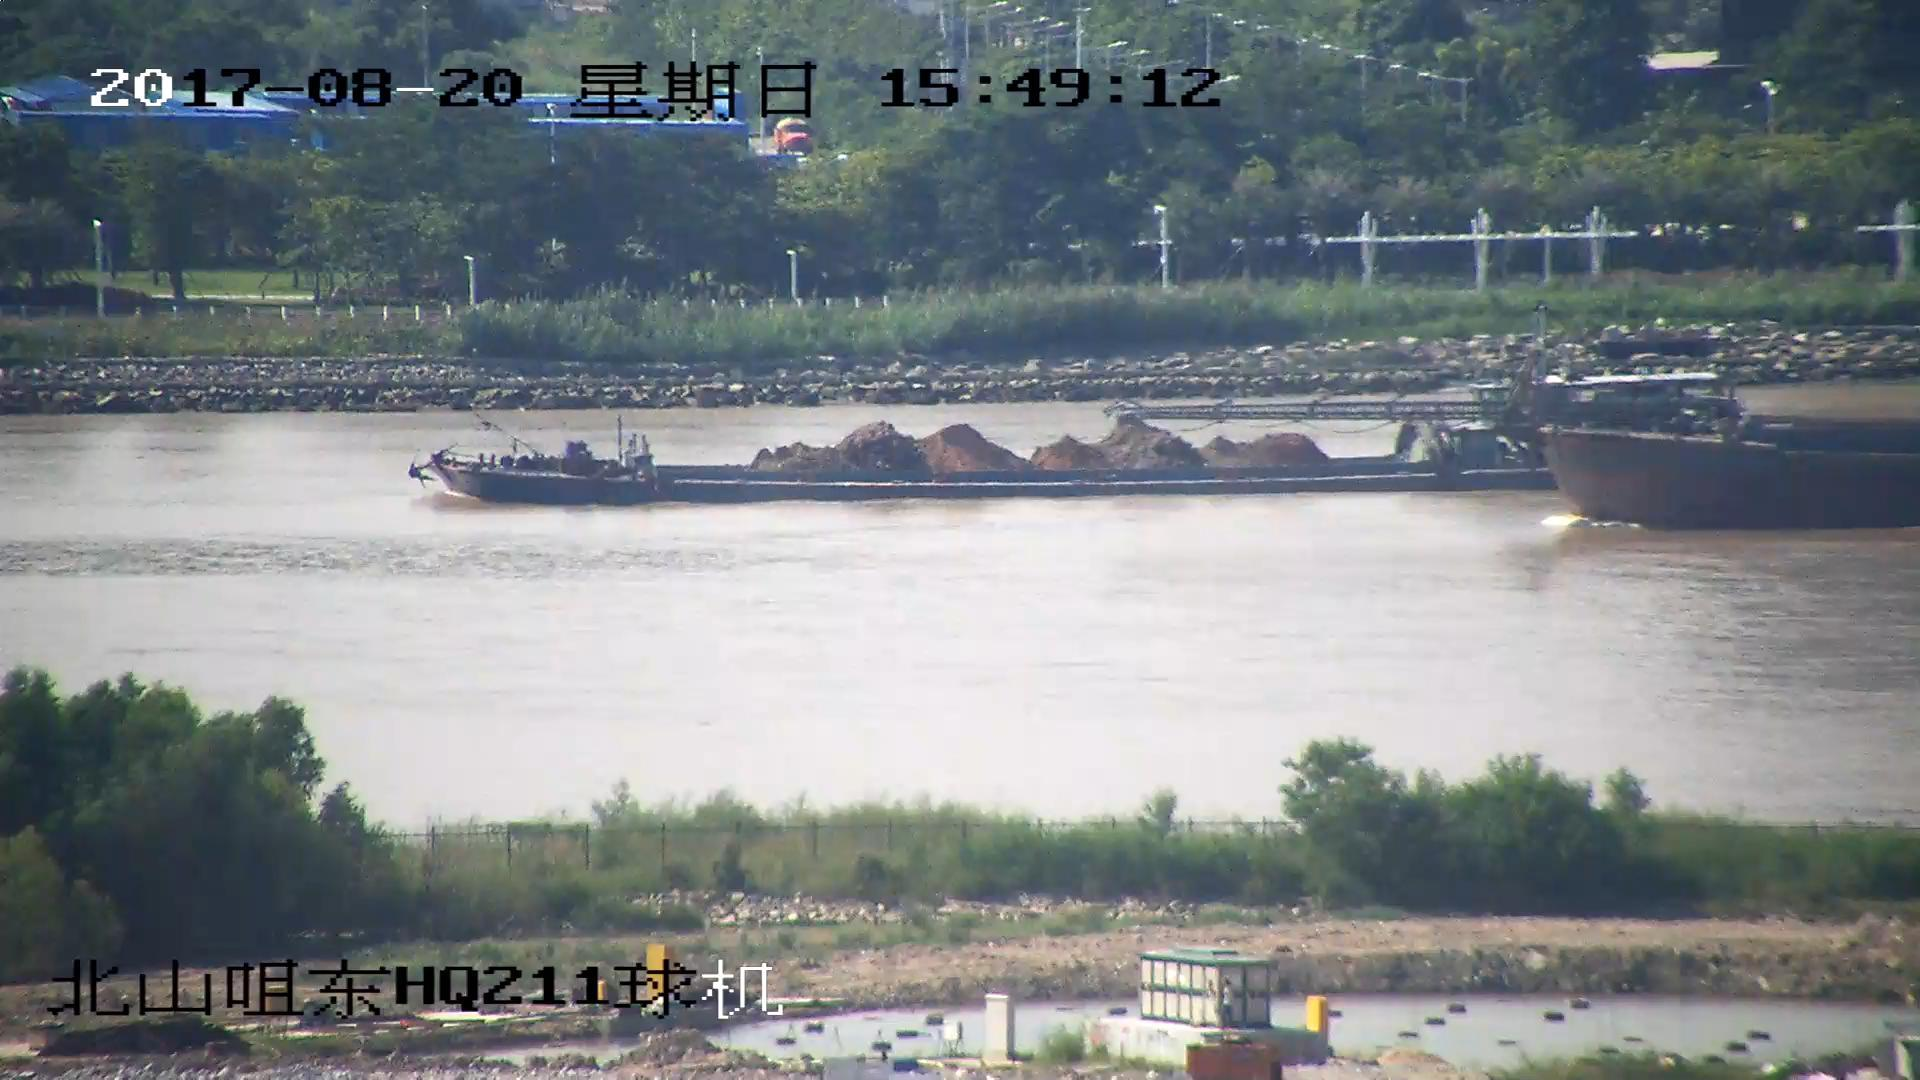Ship: (413, 375, 1734, 504), (1130, 338, 1920, 537)
